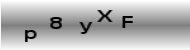8: (49, 16, 63, 30)
F: (120, 15, 136, 28)
X: (96, 7, 113, 24)
p: (24, 28, 37, 42)
y: (77, 21, 93, 35)
